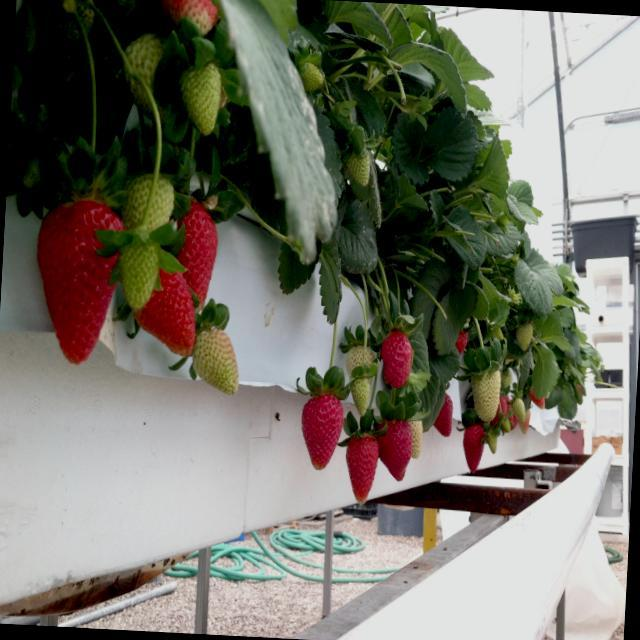ripe: (29, 196, 124, 370), (128, 252, 206, 358), (162, 184, 222, 310), (297, 392, 348, 478), (343, 429, 377, 504), (372, 414, 413, 469), (382, 328, 414, 390), (461, 423, 486, 476), (434, 393, 454, 437), (453, 326, 468, 356)
unripe: (120, 26, 171, 121), (188, 317, 247, 398), (120, 166, 174, 237), (177, 61, 227, 136), (118, 234, 162, 310), (471, 364, 505, 424), (290, 56, 330, 97), (342, 143, 375, 185), (346, 340, 375, 386), (406, 412, 426, 456), (515, 318, 536, 356), (509, 393, 526, 428)
